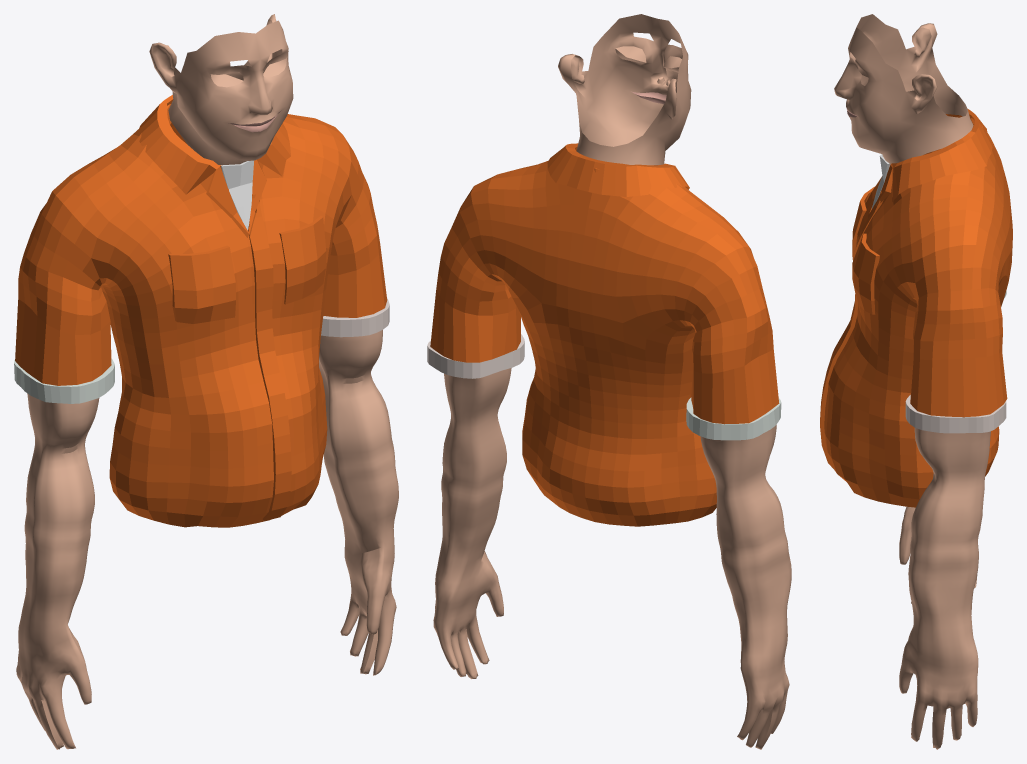
The model's file is Outfit0.fbx.
3 views of the same model, side by side, from view 1: azimuth 30°, elevation 25°; view 2: azimuth 150°, elevation 25°; view 3: azimuth 270°, elevation 25° (orthographic). The views are drawn at different scales.
Parts seen in each view (by area): view 1: Cylinder.051; view 2: Cylinder.051; view 3: Cylinder.051.
Boxes of the visible parts, x1,y1,x2,y2 form: Cylinder.051: [14, 14, 398, 749]; Cylinder.051: [427, 14, 791, 749]; Cylinder.051: [820, 14, 1012, 749].
Bounding box in the file's own units: 55.64 × 105 × 27.88.
